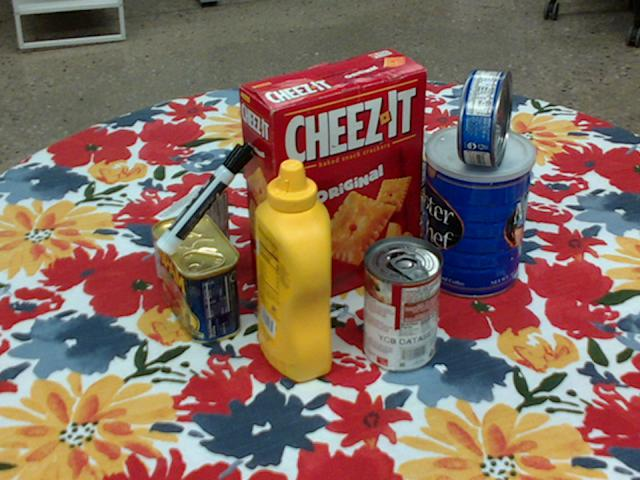cracker_box: (239, 48, 428, 312)
gelatin_box: (151, 181, 229, 285)
large_marker: (156, 140, 254, 254)
master_chef_can: (422, 125, 533, 300)
mug: (272, 123, 363, 221)
mustard_bottle: (256, 159, 331, 382)
potted_meat_can: (152, 212, 241, 344)
sugar_box: (331, 89, 488, 221)
tomato_soup_can: (362, 236, 442, 373)
tuna_fish_can: (459, 70, 511, 167)
